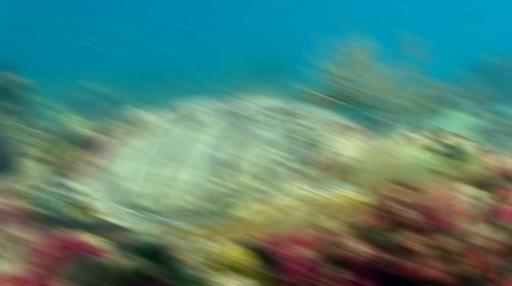Fish: (35, 98, 490, 237)
